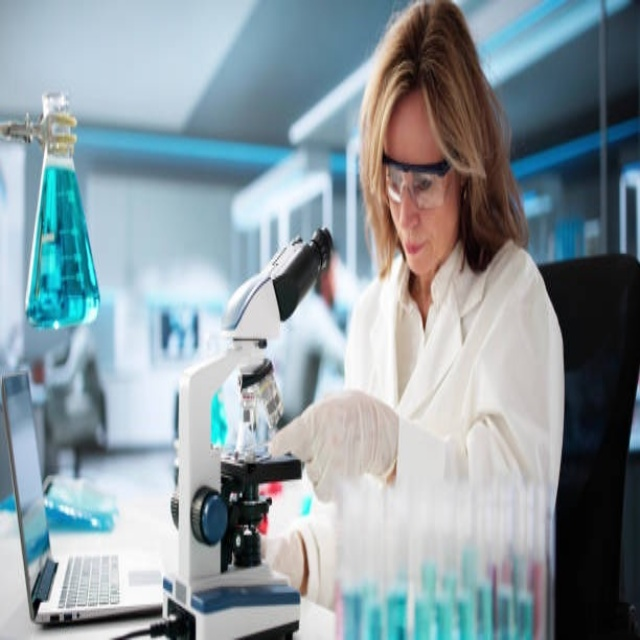Gafas: (384, 154, 457, 211)
Guantes: (269, 384, 398, 509)
Sin_mascara: (399, 224, 437, 266)
